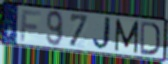7: (69, 12, 90, 49)
9: (45, 9, 65, 49)
D: (140, 20, 161, 57)
F: (19, 9, 43, 43)
J: (92, 16, 114, 52)
M: (114, 18, 140, 55)
